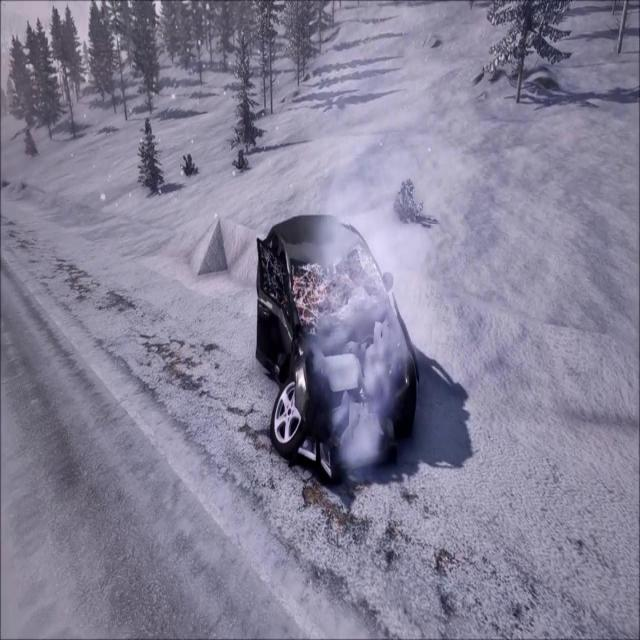accident: (250, 209, 425, 489)
